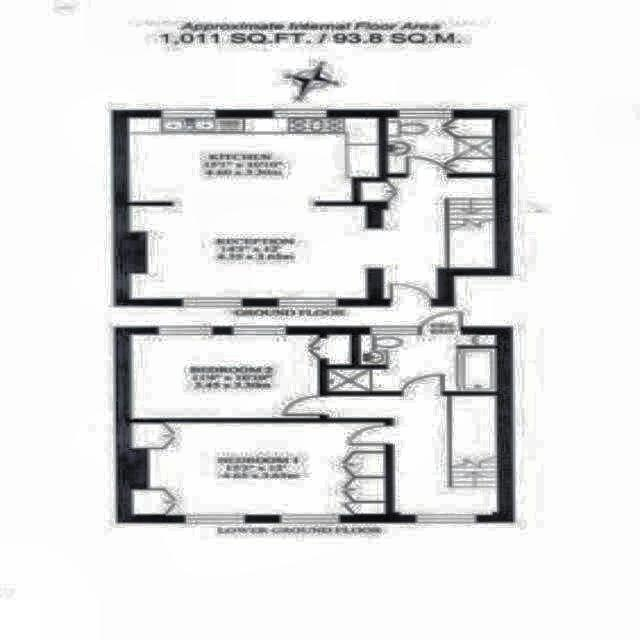room: (131, 423, 384, 514), (131, 205, 367, 298), (129, 117, 378, 201), (330, 395, 499, 514), (132, 335, 351, 420), (360, 178, 495, 299), (329, 334, 496, 391), (387, 118, 495, 172)
